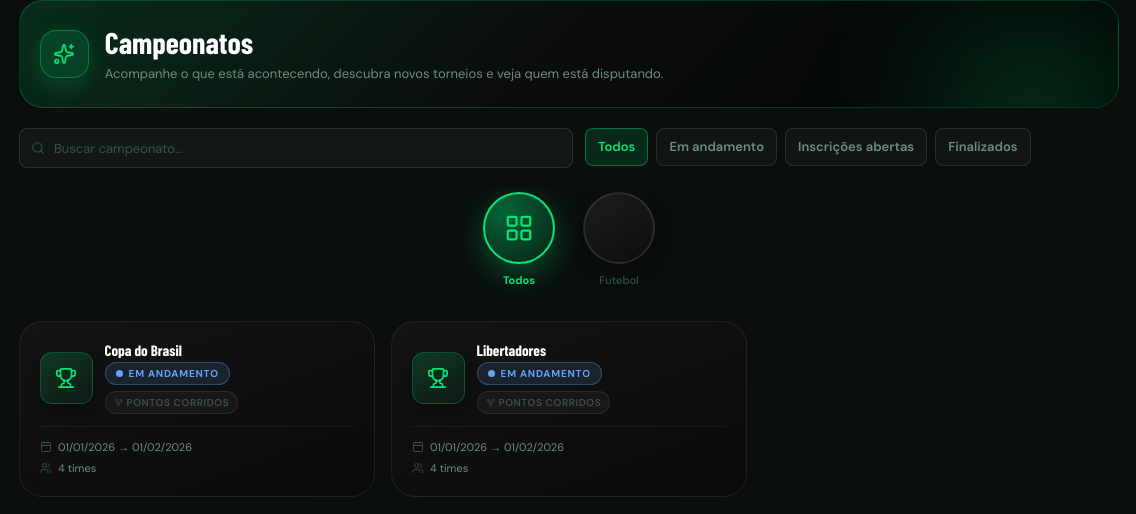
Scenario: /campeonatos: busca e filtros › filtra pela busca textual
This screenshot has width=1136, height=514.
Expected: the heading "Copa do Brasil" is shown, [104,340,182,358]
Type "Liberta" into the field with placeholder "Buscar campeonato..." at (296, 148), box [19,128,573,168]
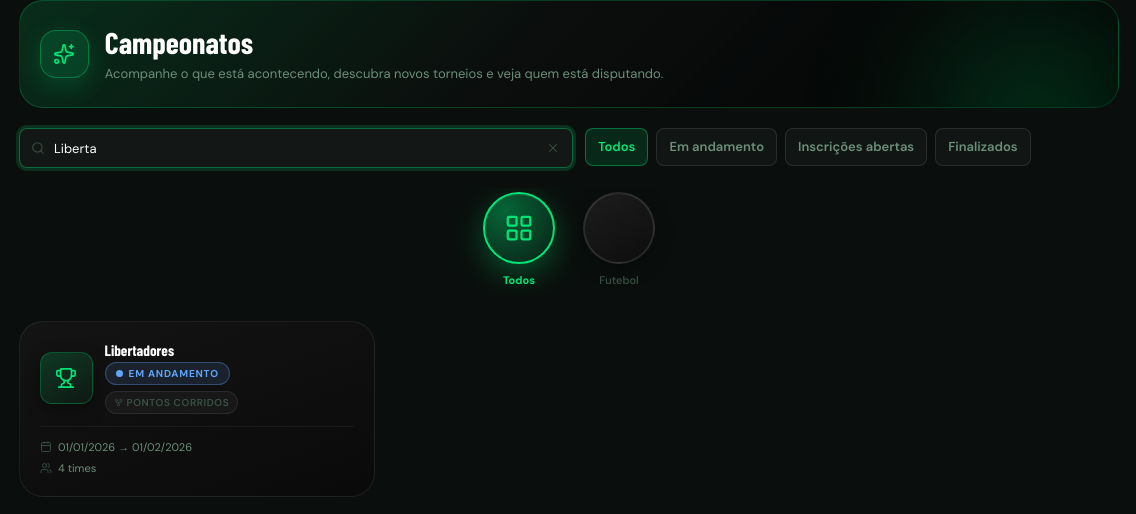
Expected: the heading "Libertadores" is shown, [104,340,174,358]
Expected: the link "Copa do Brasil" is gone
